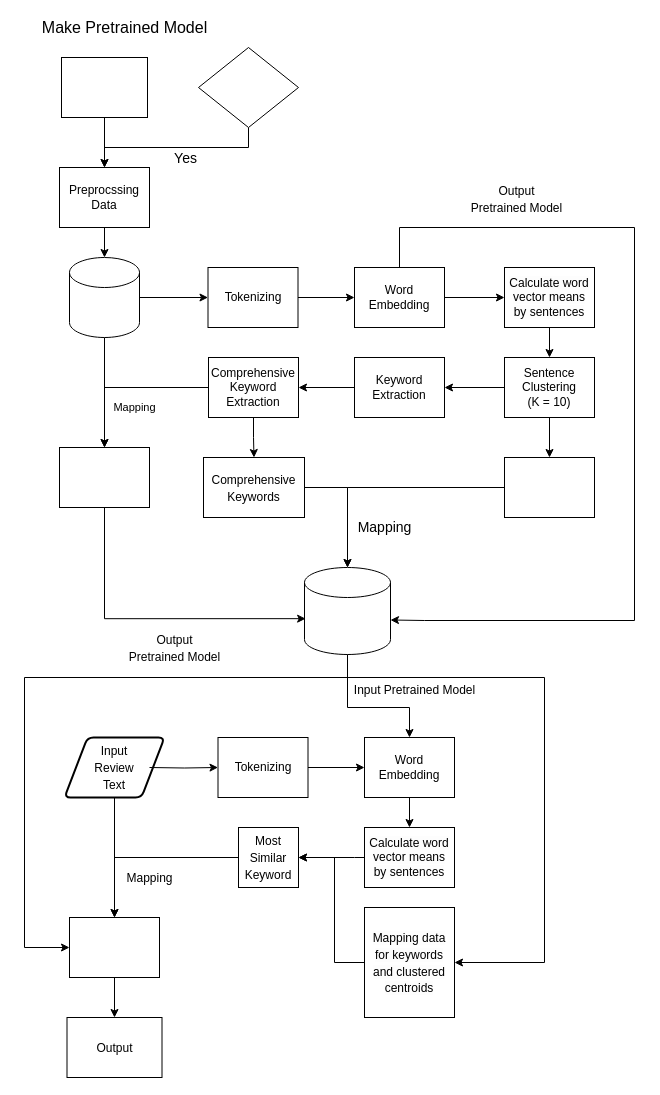
Image size: 660x1095. Some labels were removed from this diagram. Each missing label, with the centre of its shape:
Clustered Centroids: the point at 549,487
DB: the point at 104,297
new Booking.com review?: the point at 248,87
Pretrained Model DB: the point at 347,610
Pretrained Sentiment Analysis: the point at 114,947
Previously Crawled Data: the point at 104,87
Sentiment Analysis: the point at 104,477
